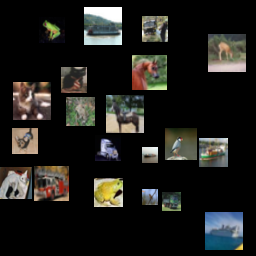airplane: (72, 91, 107, 126), (38, 16, 60, 38)
automobile: (175, 193, 207, 225), (49, 174, 68, 193)
bird: (202, 94, 234, 126), (11, 80, 40, 109), (22, 119, 48, 145), (41, 39, 63, 61)
cat: (70, 201, 108, 239), (80, 18, 99, 37)
deer: (19, 207, 57, 245), (113, 183, 145, 215), (121, 19, 150, 48)
dog: (175, 23, 210, 58), (70, 155, 105, 190), (148, 171, 174, 197)
frog: (77, 38, 112, 73)
ship: (127, 91, 165, 129), (7, 174, 36, 203)
